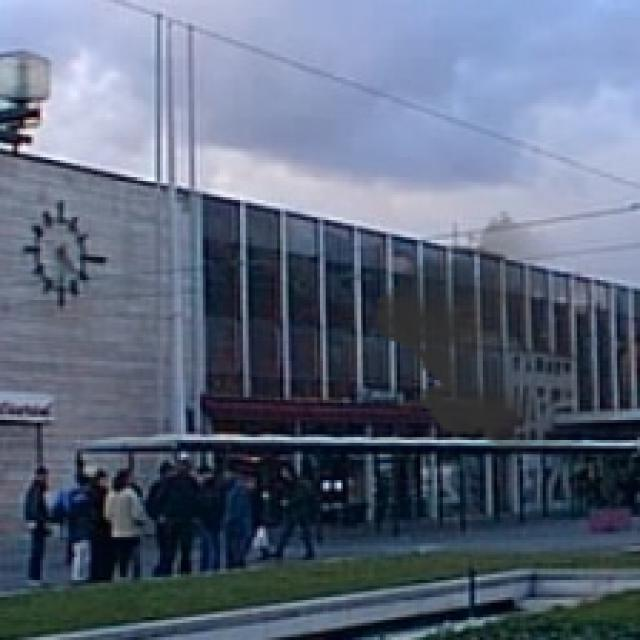Smoke: (363, 209, 631, 457)
